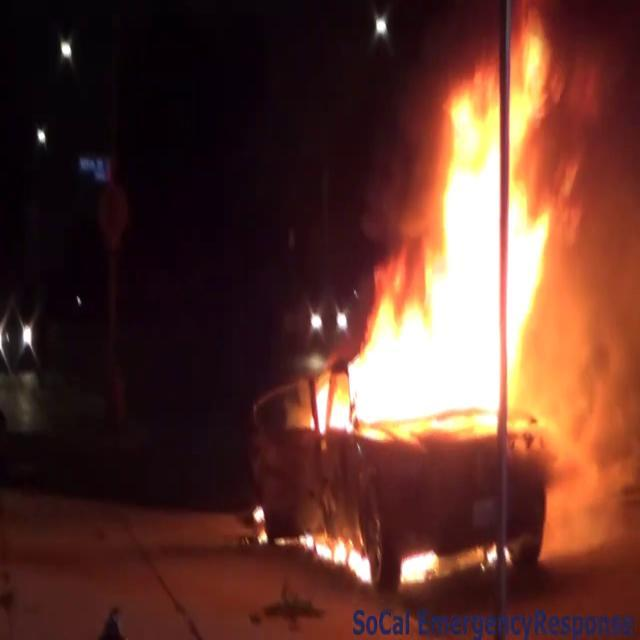Fire: (302, 14, 598, 438), (302, 524, 364, 584)
